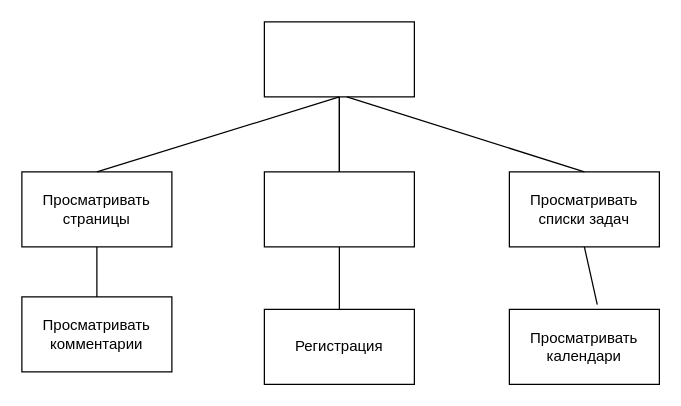
Some shapes in this 681 by 406 pixel diagram are drawn without their labels. Here are the shapes that lost their labels. From the top down, the box of each, then its label:
(263, 21, 414, 97): Гость
(263, 171, 414, 247): Просматривать заметки
